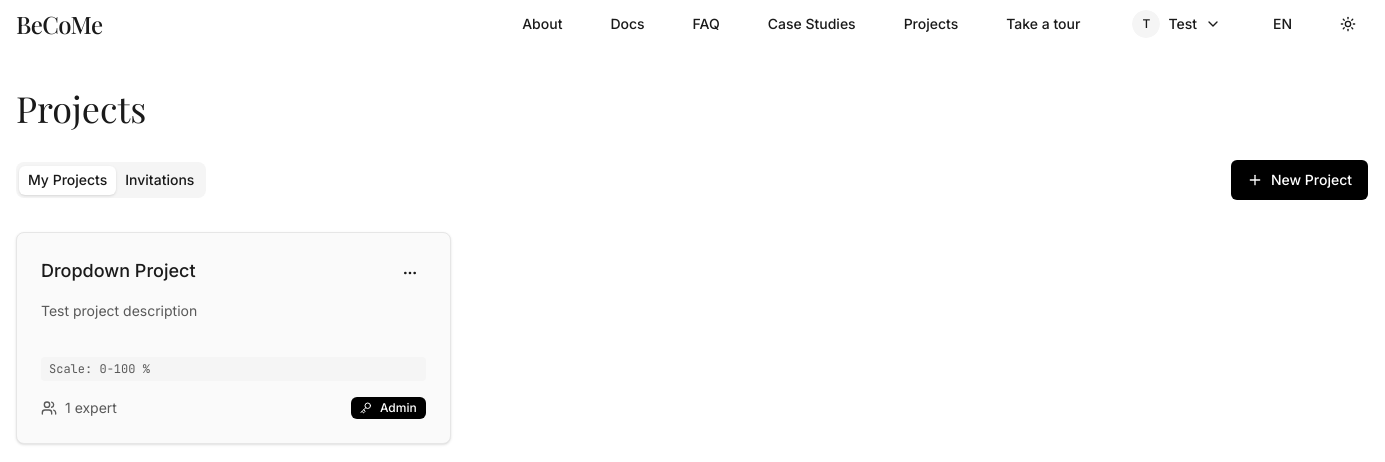
Test: Projects › Dropdown Menu › shows View Project link in dropdown
Check: the link "Dropdown Project" is shown, box [41,257,196,285]
Click the button named "project options" at (410,273), box [394,257,426,289]
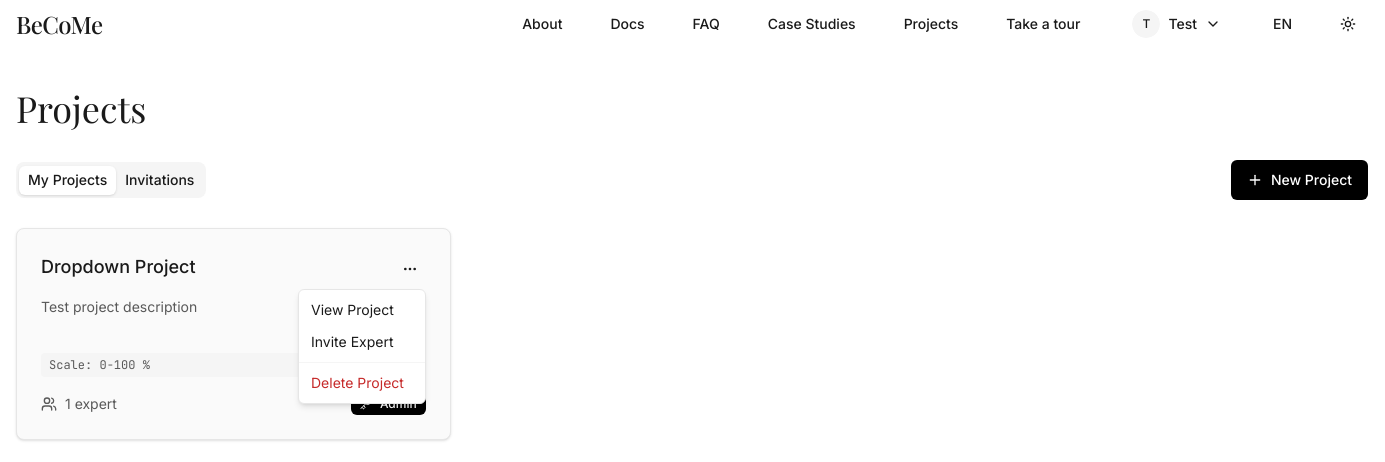
Check: the menu item "View Project" is shown, box [311,301,394,318]
